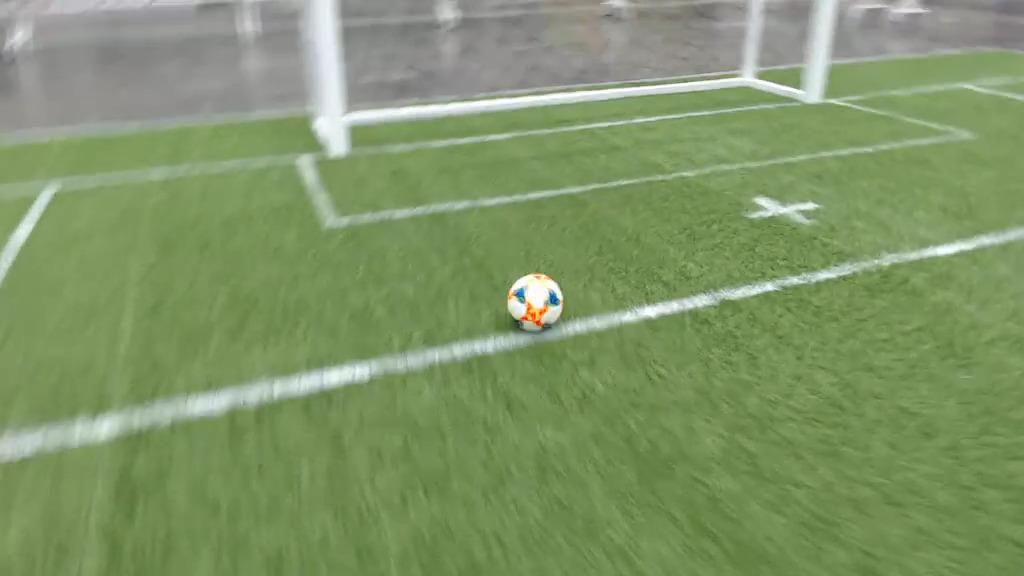ball: (506, 273, 562, 331)
